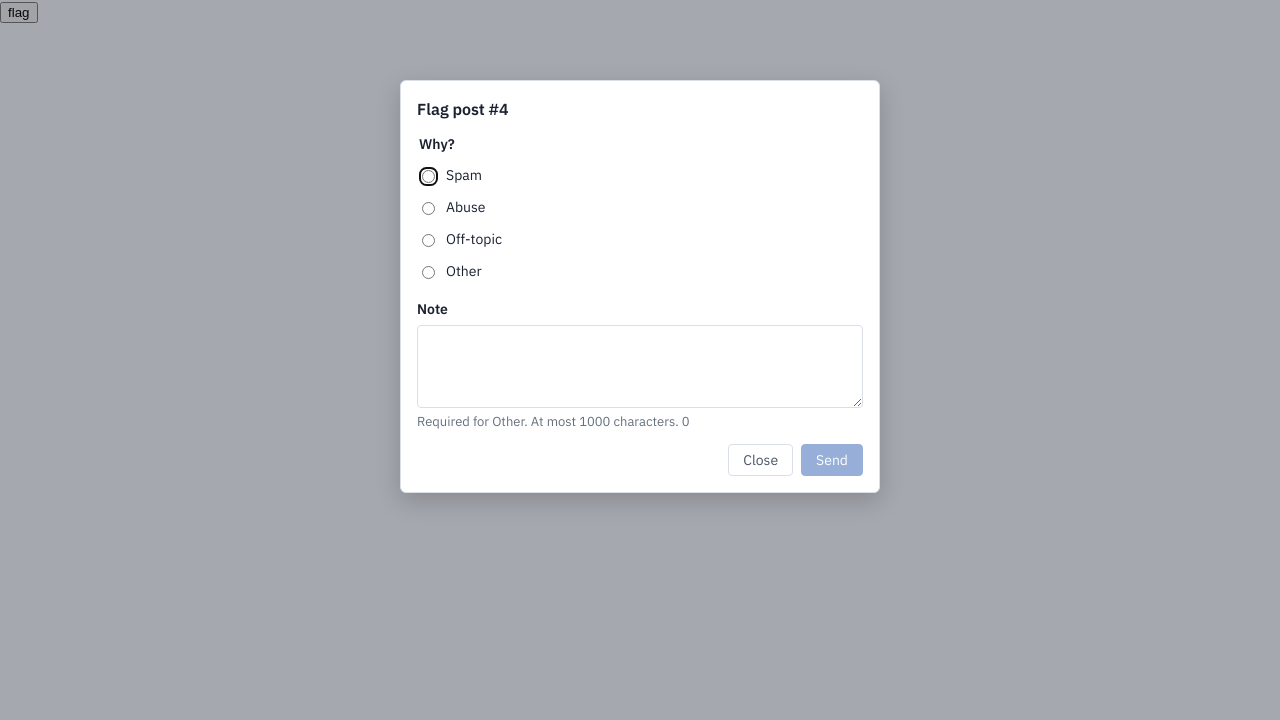
Test: the flag dialog › a success that is not the receipt is not thanked: {"status":204}
Click the radio button labelled "Spam": (428, 177) [422,170,435,184]
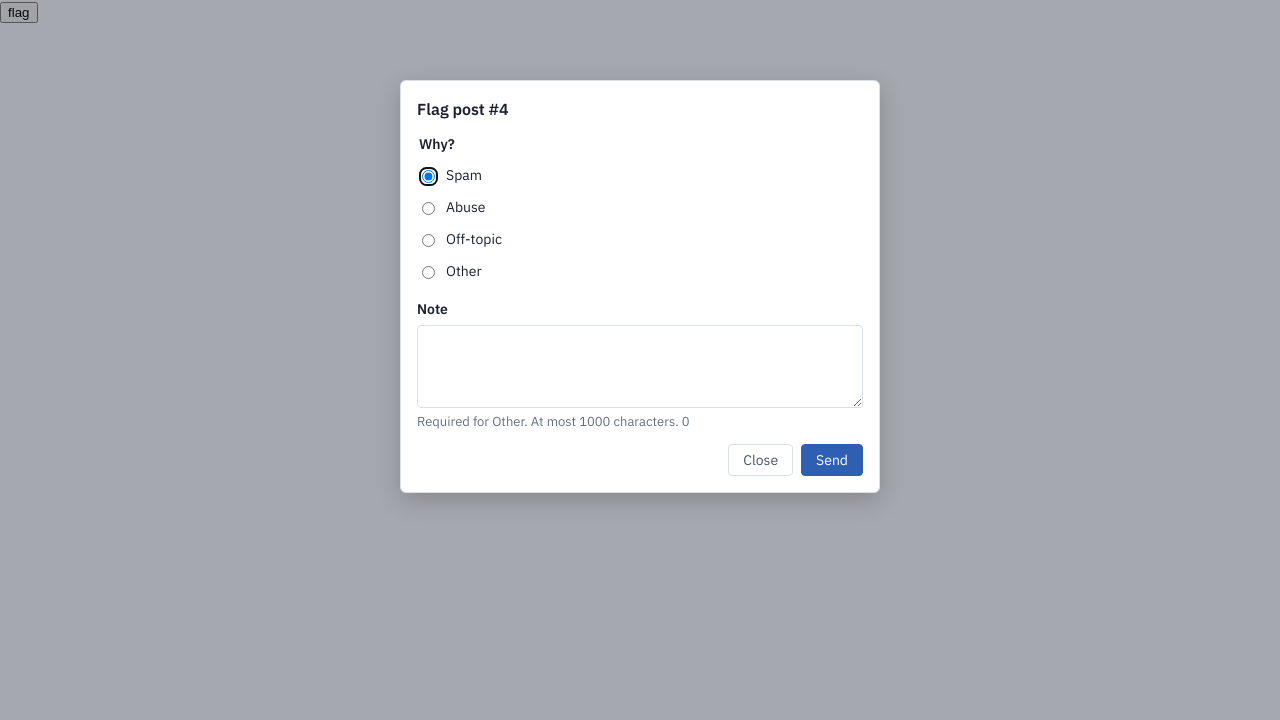
Click the button with class "flag-send": (832, 460) [801,444,863,476]
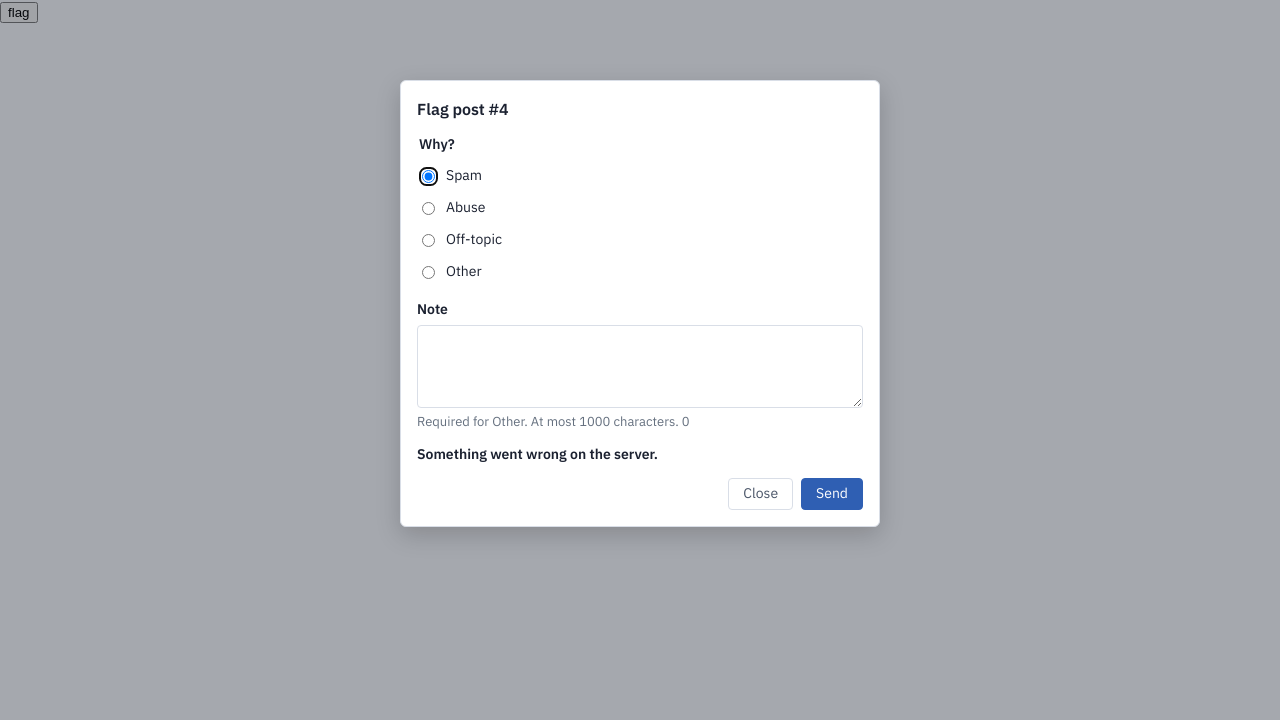
Expected: the message "Something went wrong on the server." is shown, [417,445,658,463]
